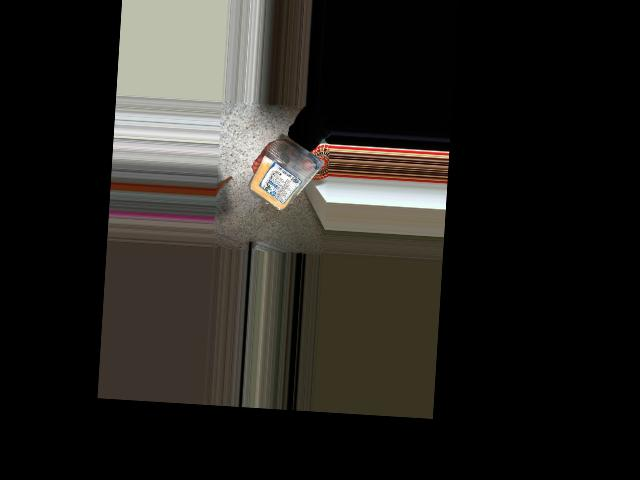cheese: (256, 142, 318, 215)
